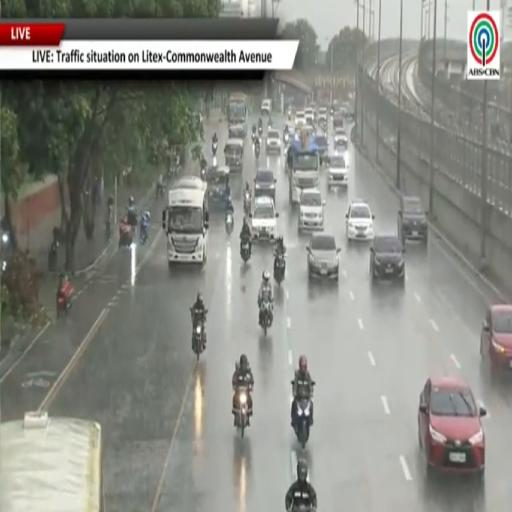bus: (0, 412, 104, 511), (162, 178, 209, 266), (227, 92, 247, 137)
car: (418, 377, 486, 475), (480, 304, 511, 371), (370, 235, 405, 285), (307, 233, 340, 280), (397, 196, 428, 244), (250, 197, 278, 241), (346, 200, 374, 241), (298, 189, 324, 231), (254, 169, 276, 203), (328, 154, 348, 188), (314, 135, 328, 164), (266, 128, 281, 154), (334, 127, 348, 150), (333, 112, 344, 132), (295, 111, 306, 128), (261, 99, 272, 116), (301, 124, 315, 137), (305, 108, 314, 125), (318, 107, 327, 122)
motorcycle: (294, 397, 312, 449), (235, 386, 251, 437), (191, 309, 205, 361), (57, 281, 74, 316), (259, 301, 272, 335), (119, 220, 133, 248), (274, 253, 285, 285), (48, 240, 59, 271), (126, 206, 137, 232), (240, 239, 251, 263), (140, 217, 149, 245), (105, 206, 112, 241), (244, 190, 252, 216), (288, 504, 315, 511), (225, 212, 233, 234), (156, 183, 163, 199), (283, 132, 290, 146), (255, 139, 260, 158), (200, 168, 206, 182), (212, 141, 217, 155), (258, 125, 263, 136), (252, 132, 256, 142)
truck: (288, 130, 320, 203)
